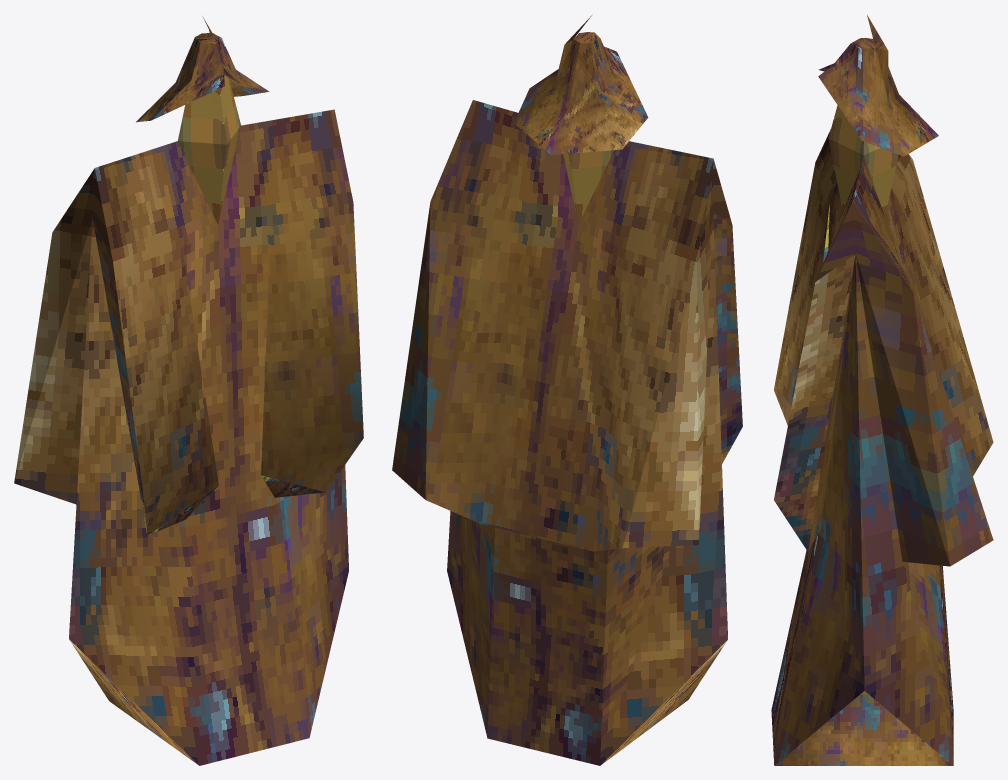
File: frn_all_decorative_lg_s2_l2.fbx
The picture shows the model from 3 angles, left to right: view 1: azimuth 30°, elevation 25°; view 2: azimuth 150°, elevation 25°; view 3: azimuth 270°, elevation 25°; orthographic projection. The views are drawn at different scales.
Visible parts, largest first — view 1: mesh_node; view 2: mesh_node; view 3: mesh_node.
Part boxes in pixels (left/top/right/bottom): mesh_node: left=14, top=16, right=363, bottom=765; mesh_node: left=392, top=15, right=742, bottom=765; mesh_node: left=771, top=15, right=993, bottom=765.
Size of the model in its own units: 0.729 by 1.61 by 0.4495.
